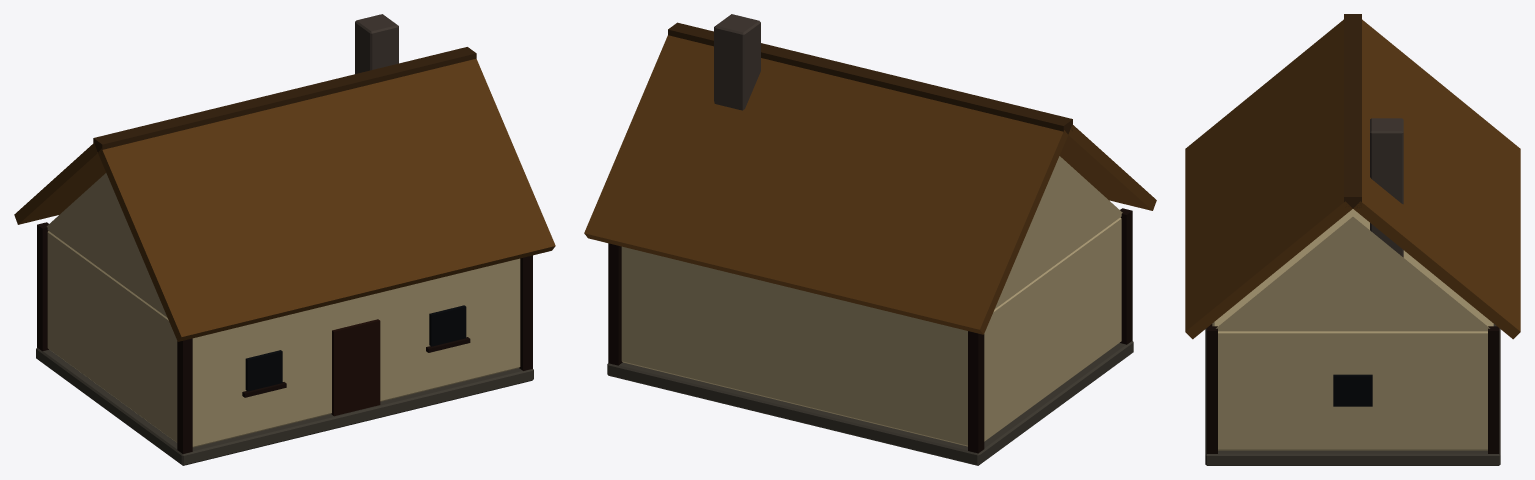
The model's file is house_cottage.fbx.
3 renders of one model, left to right at view 1: azimuth 30°, elevation 25°; view 2: azimuth 150°, elevation 25°; view 3: azimuth 270°, elevation 25°, orthographic. The views are drawn at different scales.
Visible parts, largest first — view 1: house_cottage; view 2: house_cottage; view 3: house_cottage.
Part boxes in pixels (<box>): house_cottage: <box>14,14,555,465</box>; house_cottage: <box>584,14,1156,465</box>; house_cottage: <box>1185,14,1520,465</box>.
Size of the model in its own units: 7.7 by 6.07 by 5.97.
